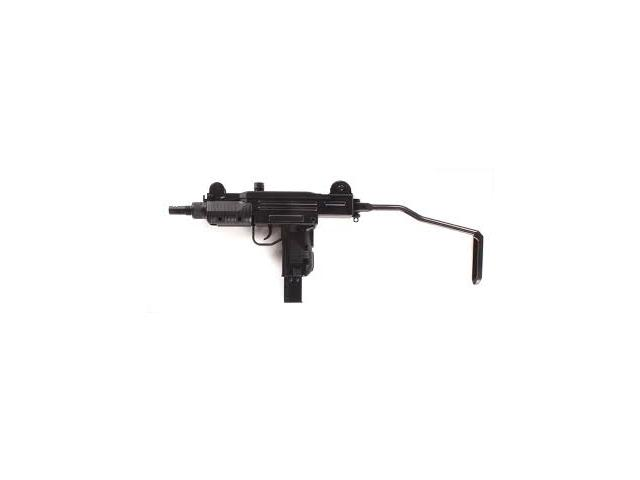pistol: (166, 181, 364, 310)
